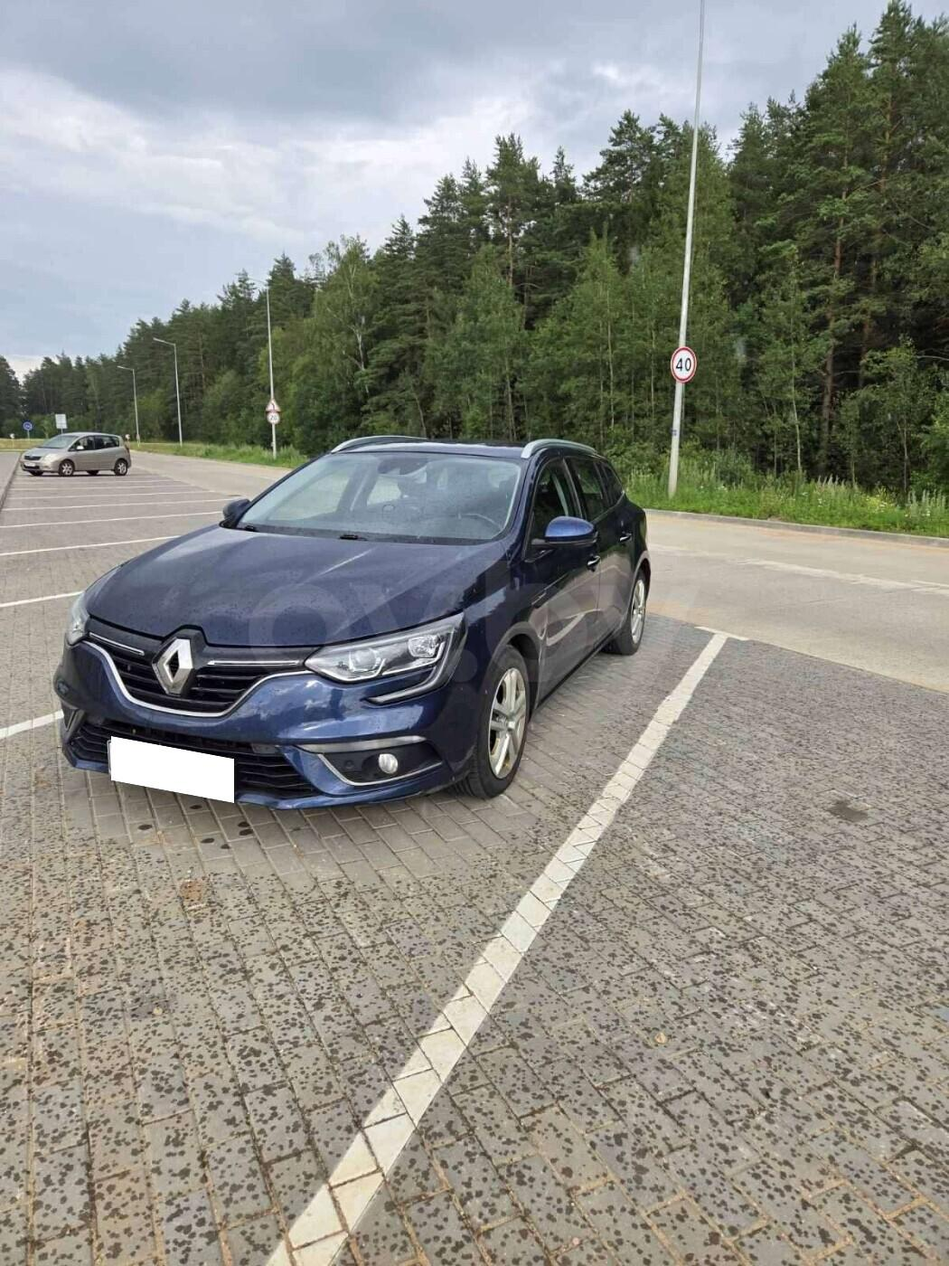Megane_2016-2020: (45, 436, 654, 832)
